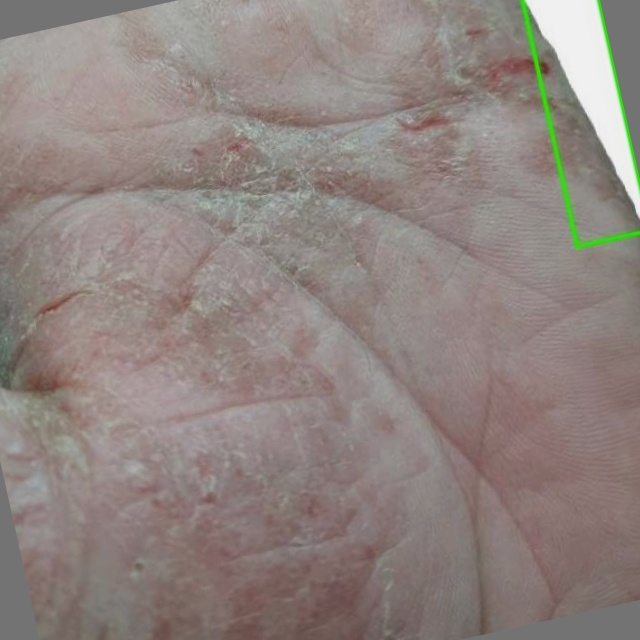Contact Dermatitis: (521, 0, 639, 248)
